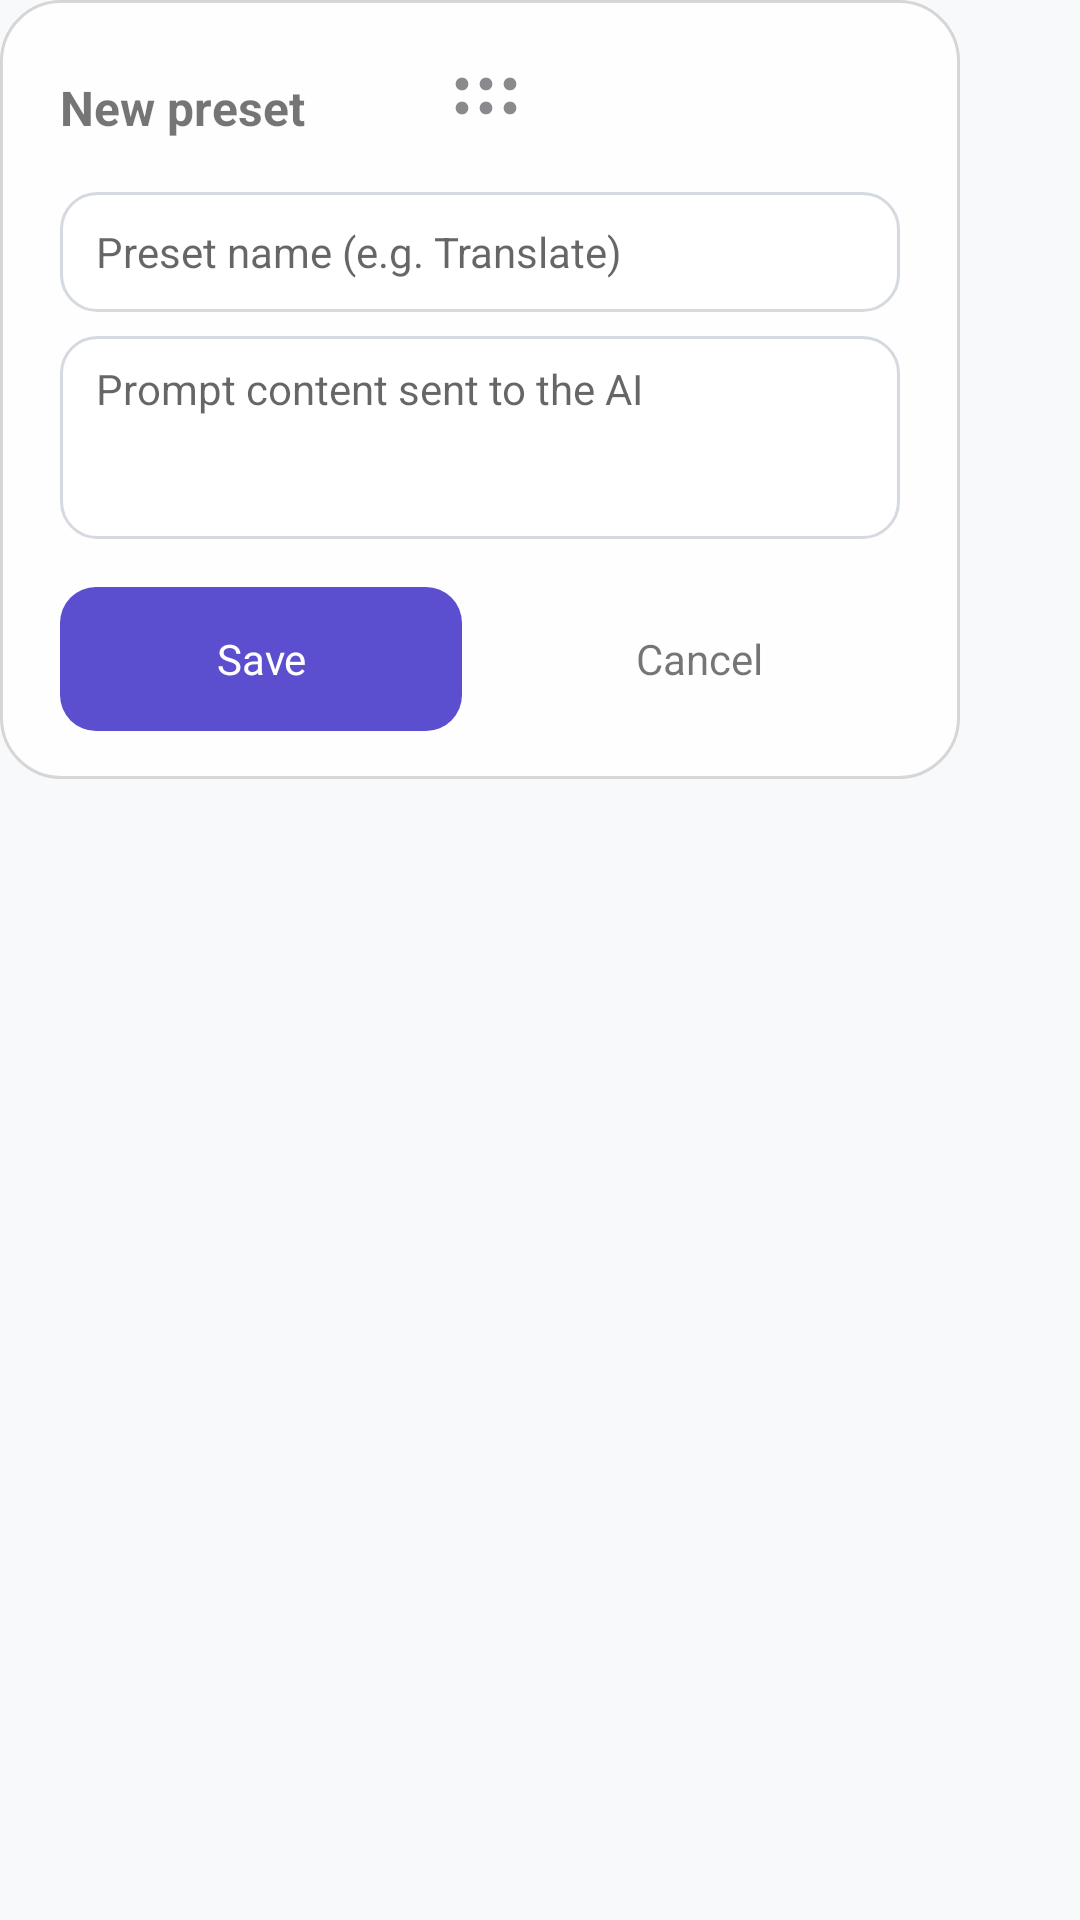

Icons on this 1080px x 1920px Android screen, each with the point to tap as [x,y]:
Drag window: [486,96]
